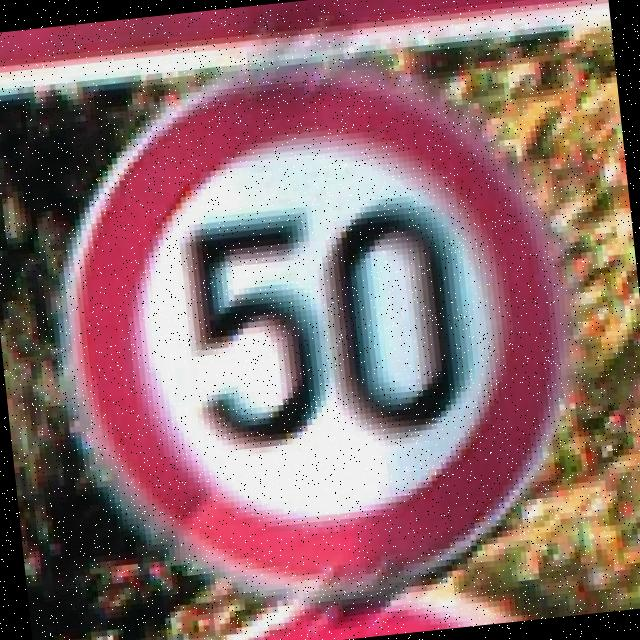Ograniczenie predkosci do 50: (53, 56, 580, 606)
